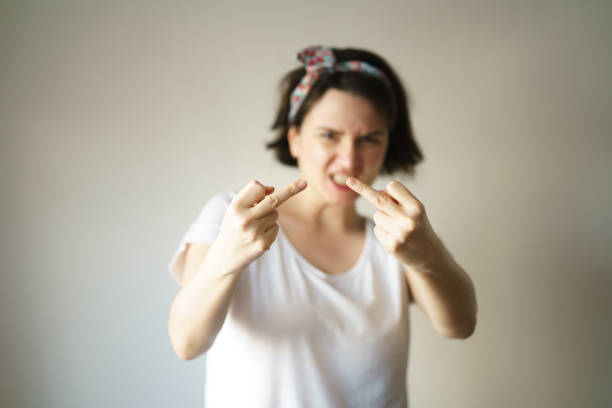insulting_gesture: (212, 172, 308, 269), (342, 173, 430, 273)
